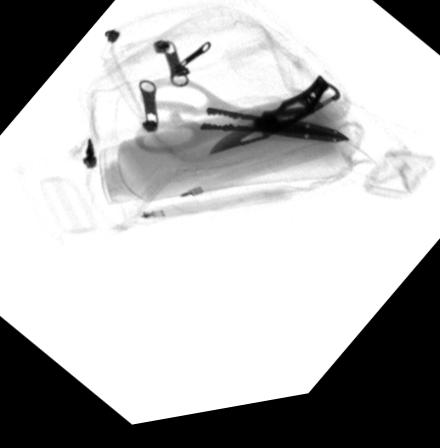Knife: (206, 86, 342, 161)
Scissors: (129, 80, 349, 161)
